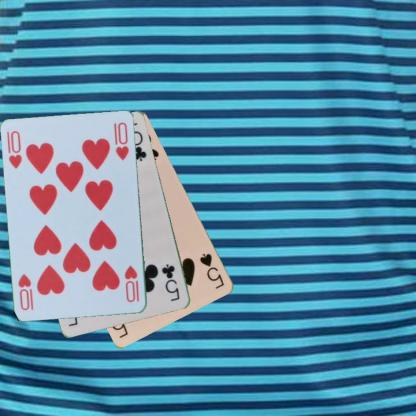10h: (6, 128, 24, 170), (122, 263, 140, 304)
5c: (159, 261, 181, 303)
5s: (197, 250, 226, 290)
